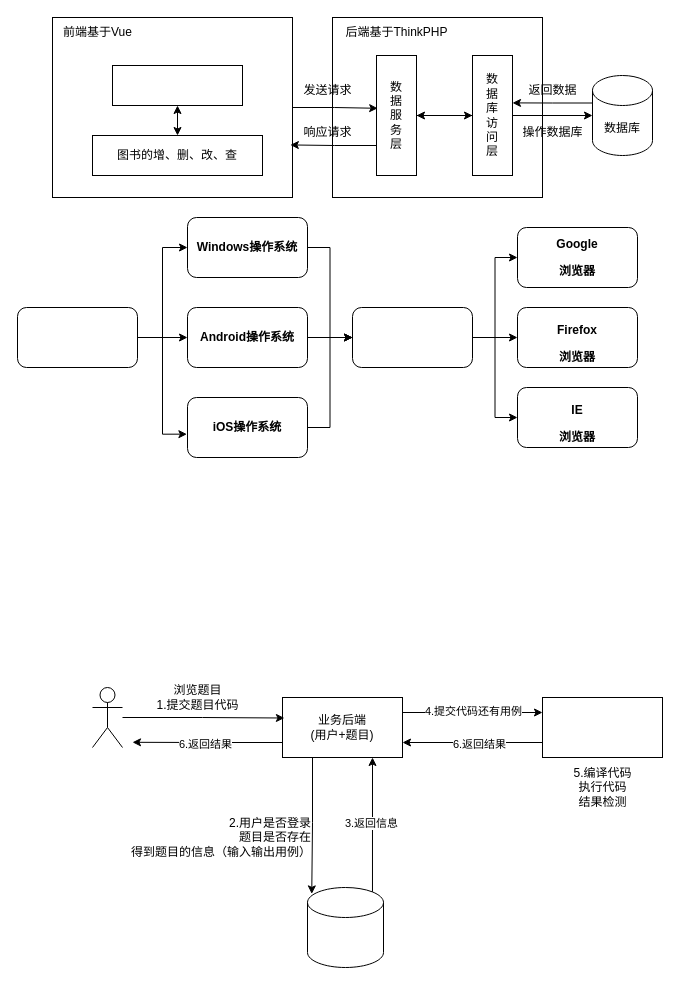
Image size: 680x985. Some labels were removed from this diagram. Each missing label, with the box of its shape:
Selenium+Python: (352, 306, 472, 368)
判题模块: (542, 696, 662, 758)
图书管理系统界面层: (112, 64, 242, 106)
数据库 MySQL: (306, 886, 384, 968)
测试人员: (16, 306, 138, 368)
用户: (92, 686, 122, 748)
